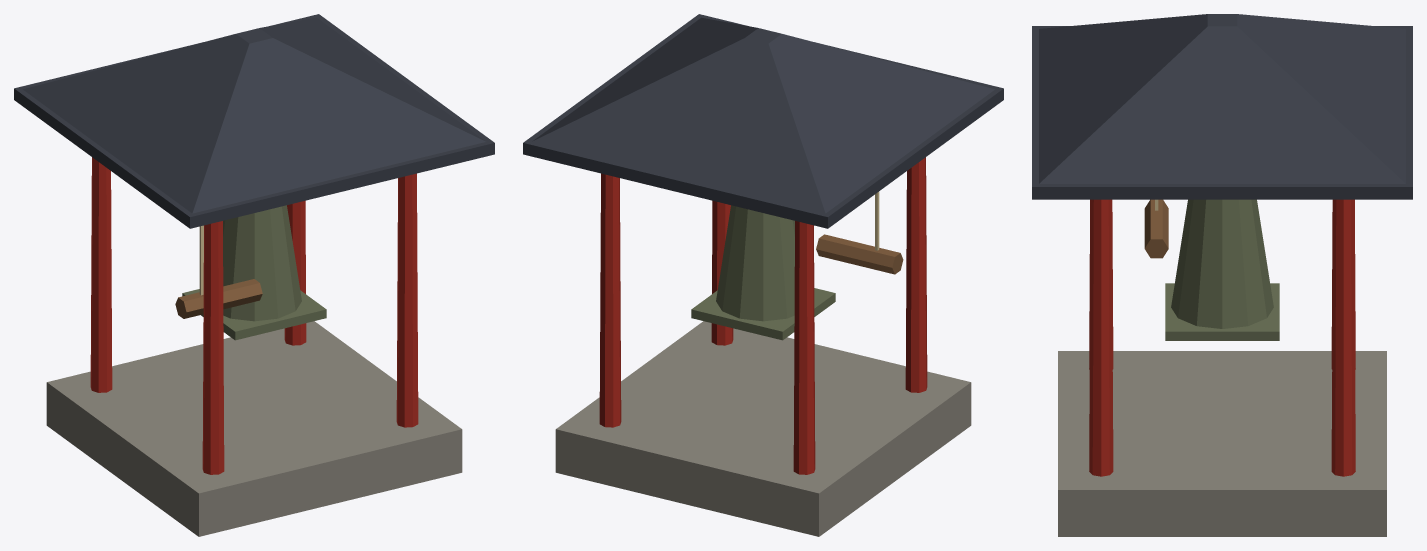
The model's file is jap-campanario.gltf.
3 views of the same model, side by side, from view 1: azimuth 30°, elevation 25°; view 2: azimuth 150°, elevation 25°; view 3: azimuth 270°, elevation 25° (orthographic). The views are drawn at different scales.
Parts seen in each view (by area): view 1: jap-campanario; view 2: jap-campanario; view 3: jap-campanario.
Boxes of the visible parts, bbox=[...] form: jap-campanario: bbox=[14, 14, 494, 536]; jap-campanario: bbox=[523, 14, 1003, 536]; jap-campanario: bbox=[1032, 14, 1412, 536].
Bounding box in the file's own units: 2.2 × 2.85 × 2.2.
